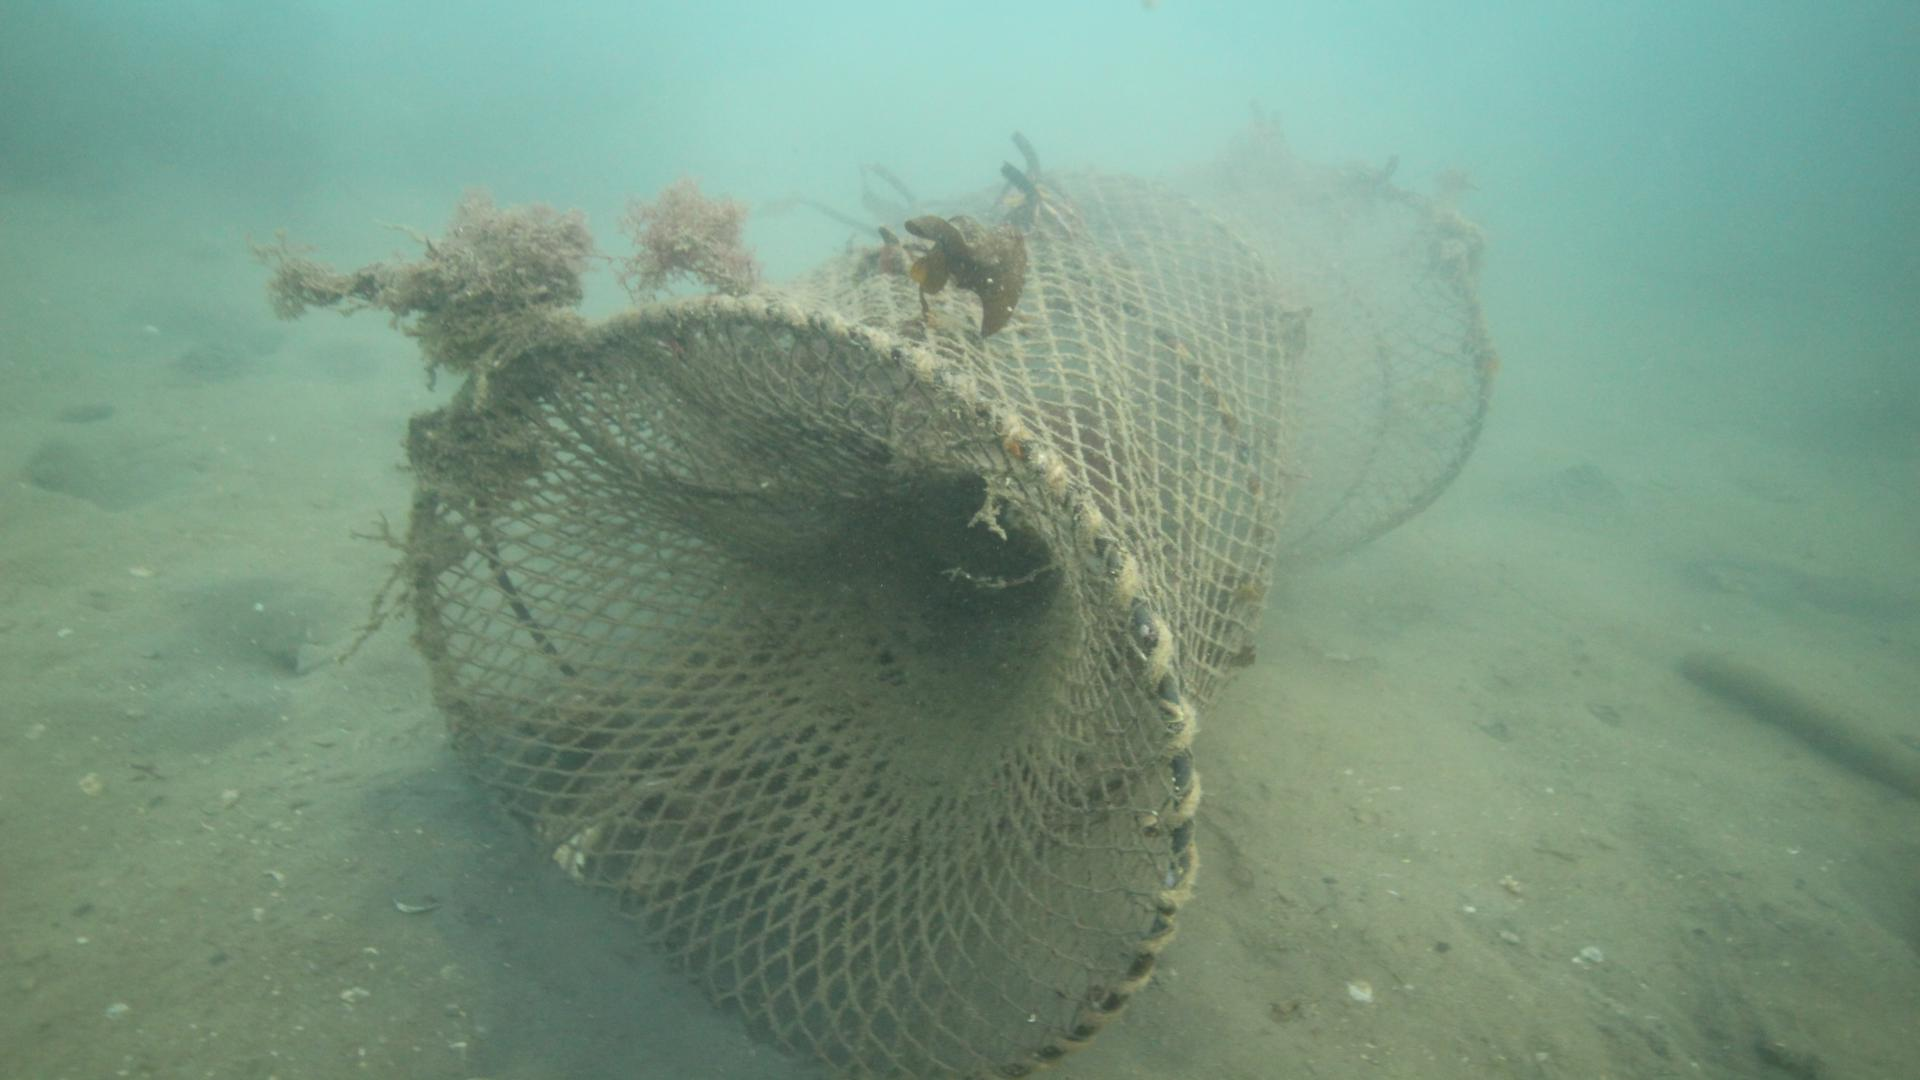spring fish trap: (405, 95, 1495, 1080)
